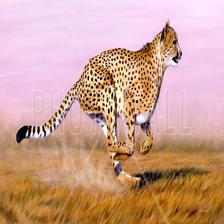Cheetah: (13, 19, 187, 190)
